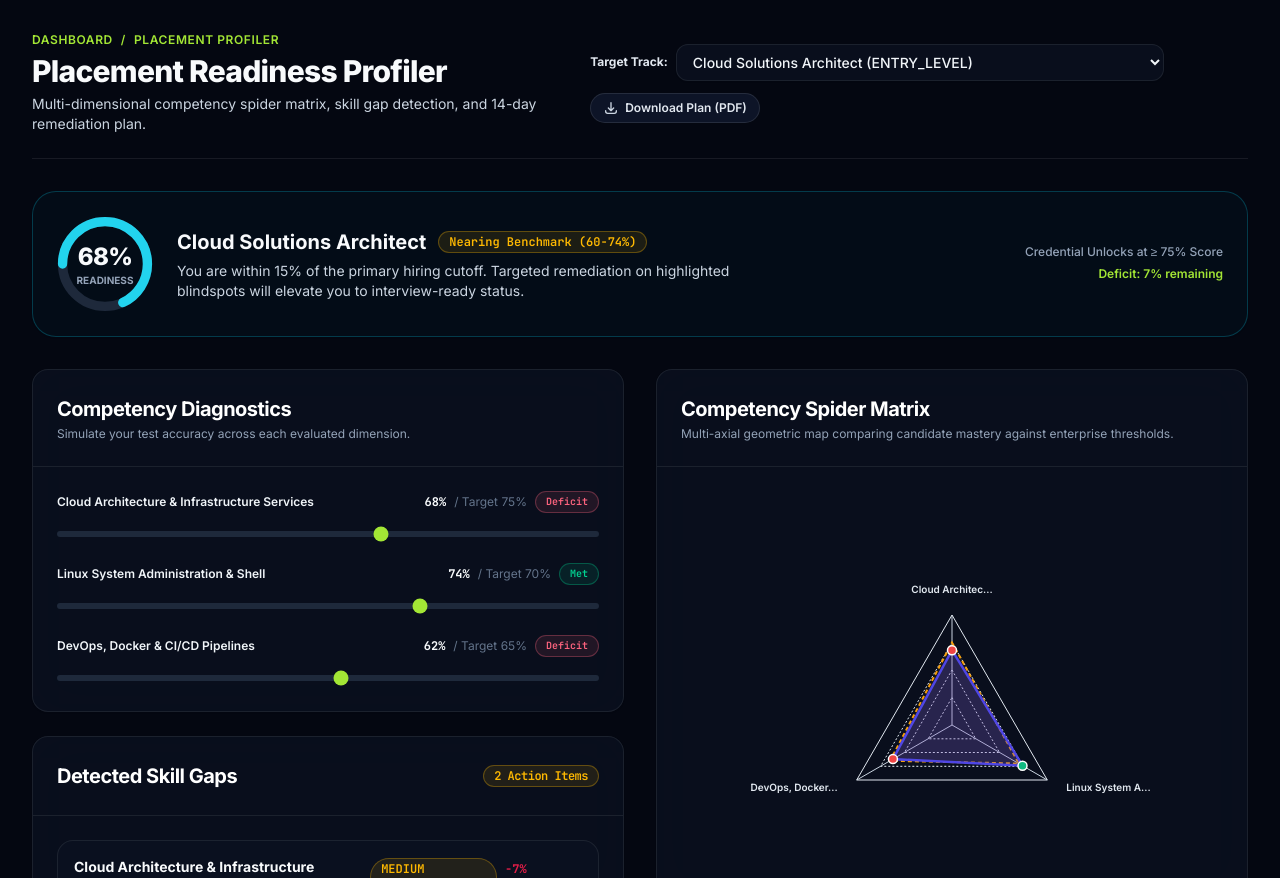
Test: PlacementReadinessPage › allows claiming placement credential when score reaches threshold
Set the slider named "Accuracy slider for Cloud Architecture & Infrastructure Serv" to "95" at (558, 534), box [57,531,599,537]
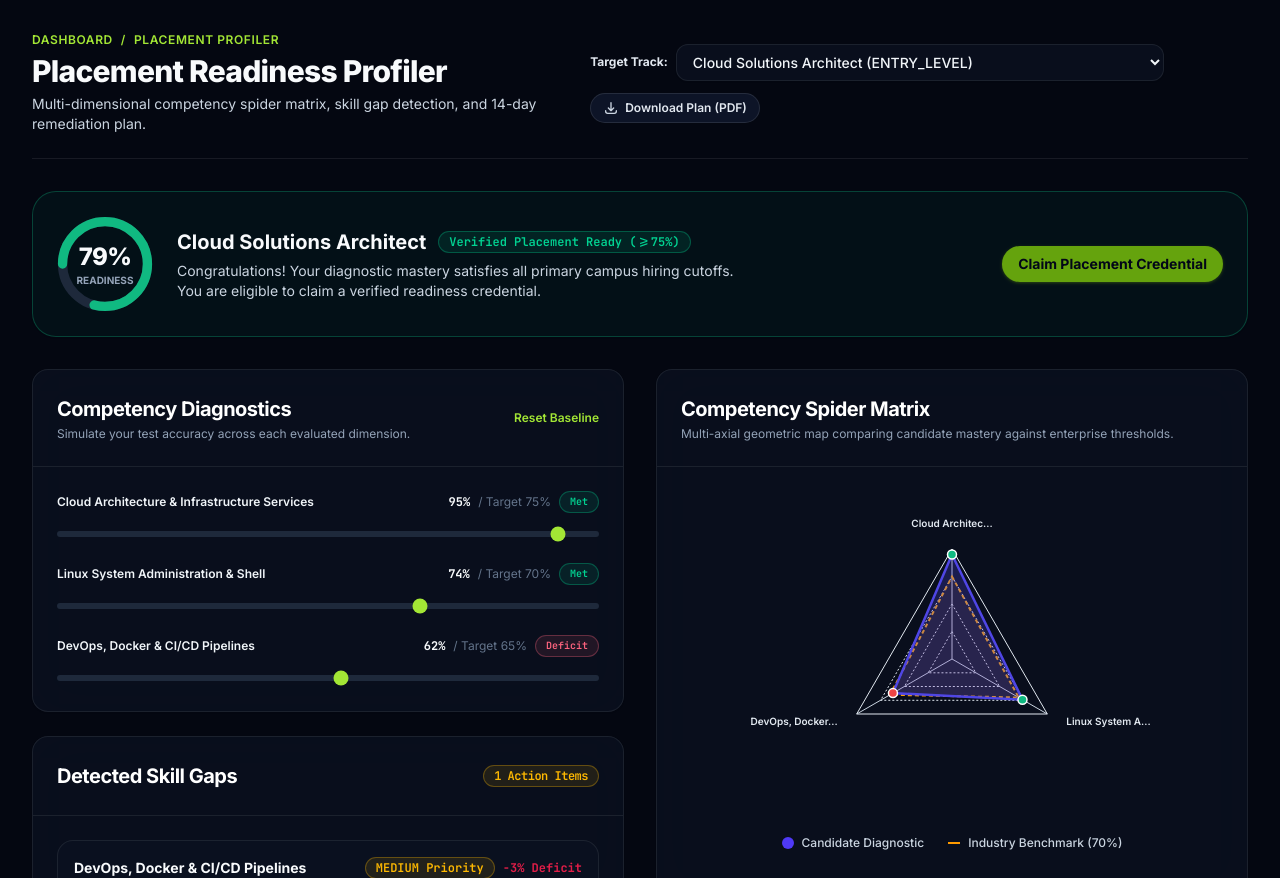
Set the slider named "Accuracy slider for Linux System Administration & Shell" to "95" at (558, 606), box [57,603,599,609]
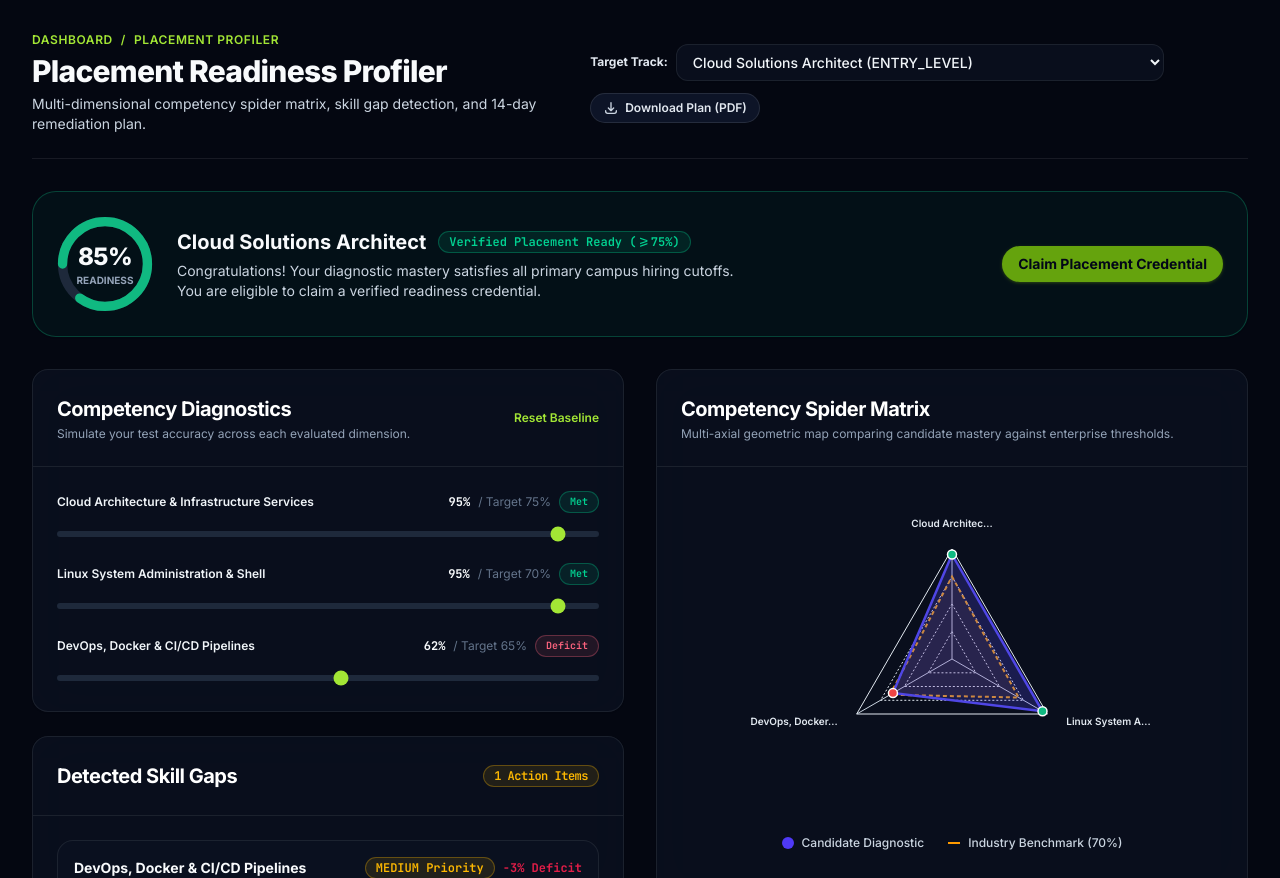
Set the slider named "Accuracy slider for DevOps, Docker & CI/CD Pipelines" to "95" at (558, 678), box [57,675,599,681]
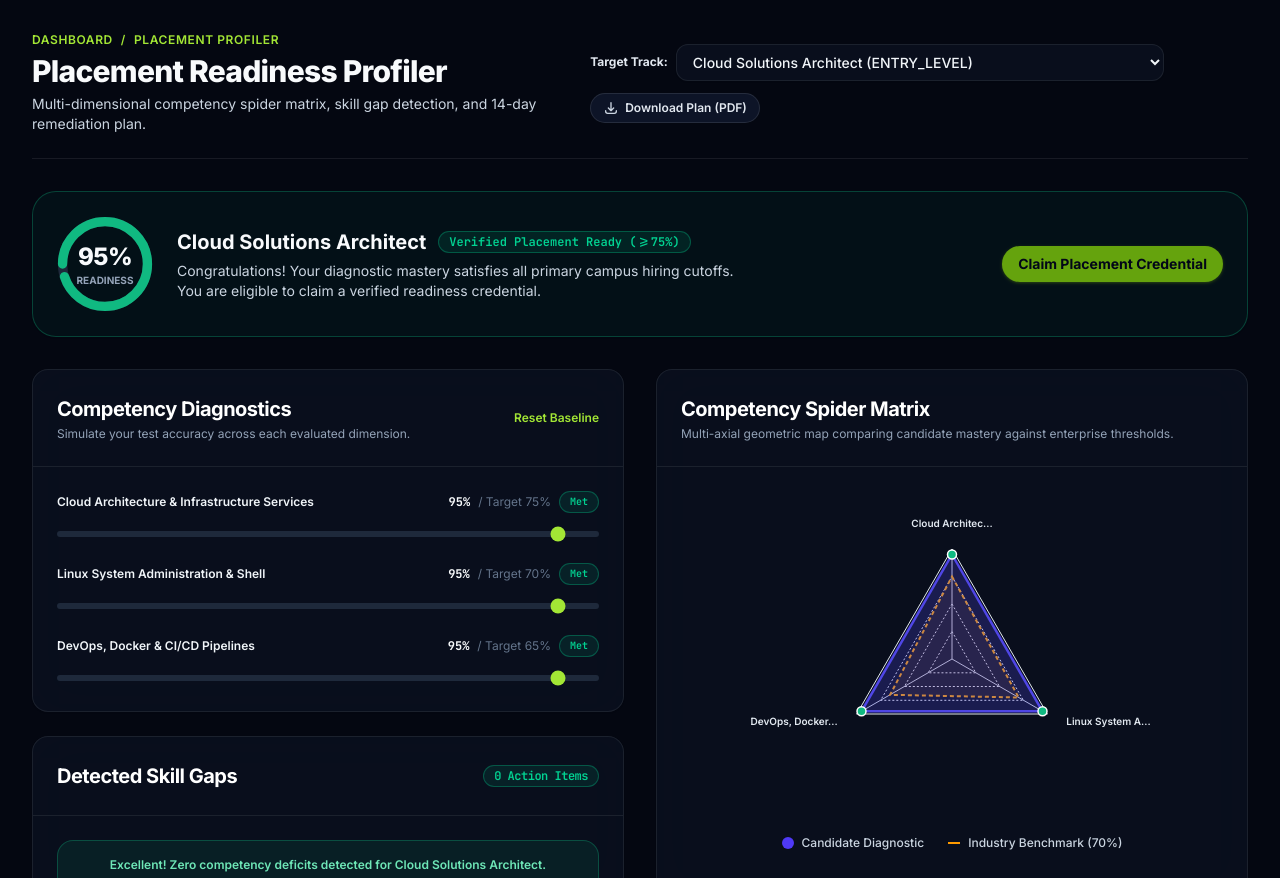
Result: the button "Claim Placement Credential" is shown
Click the button "Claim Placement Credential".
click(1113, 264)  # box [1002,246,1223,282]
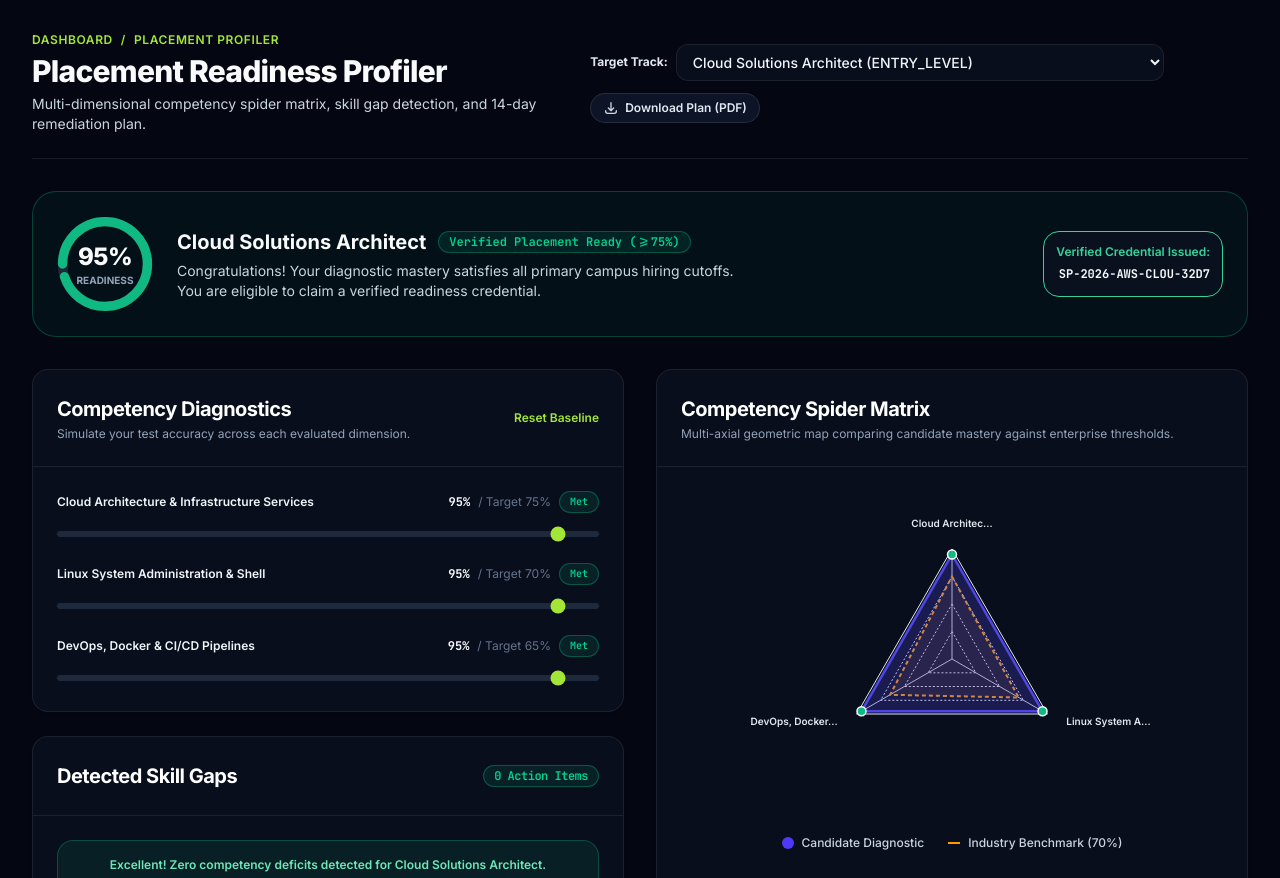
Result: the text "Verified Credential Issued:" is shown at [1056,244,1210,260]
Result: the text "SP-2026-AWS-CLOU-32D7" is shown at [1059,266,1210,282]
